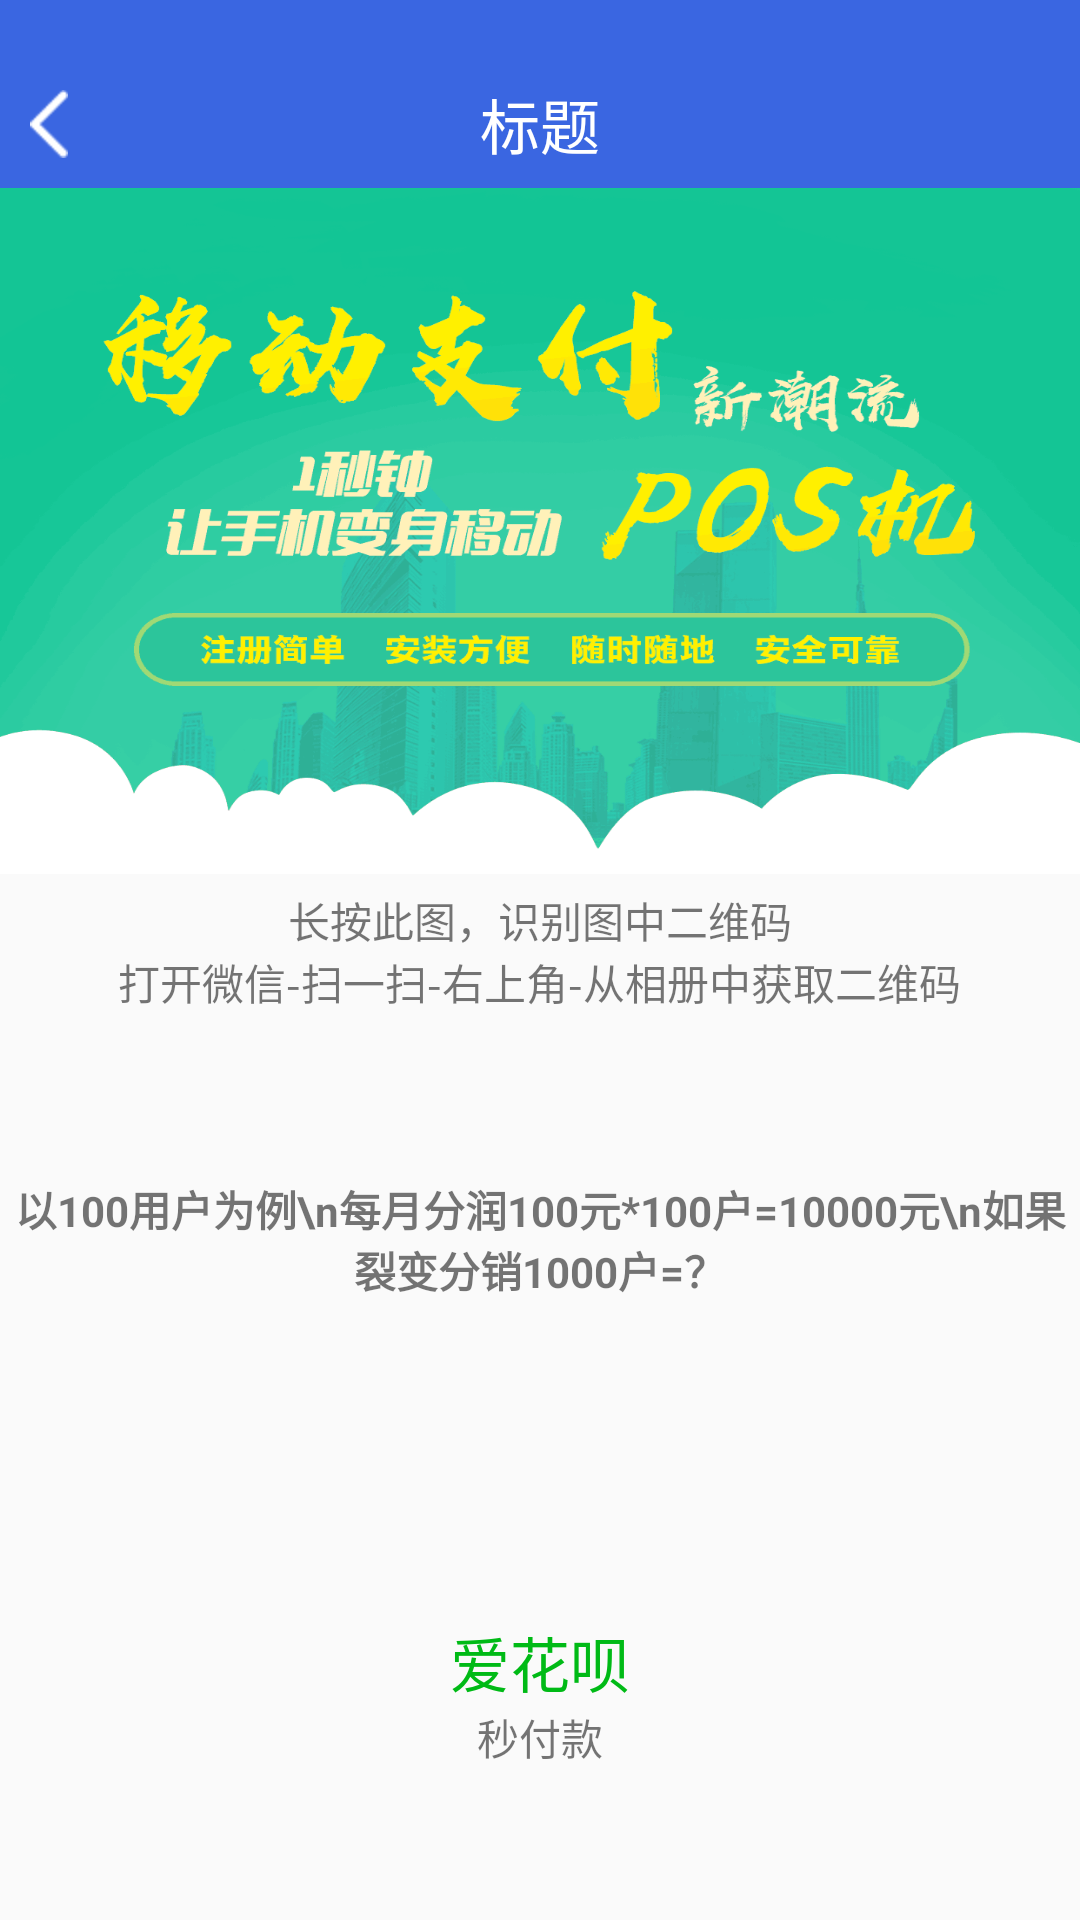

Locate icon controls on the screen. Image size 1080 × 1920, boxes as (x1, y1, x2, y2).
chevron left: (30, 90, 68, 158)
